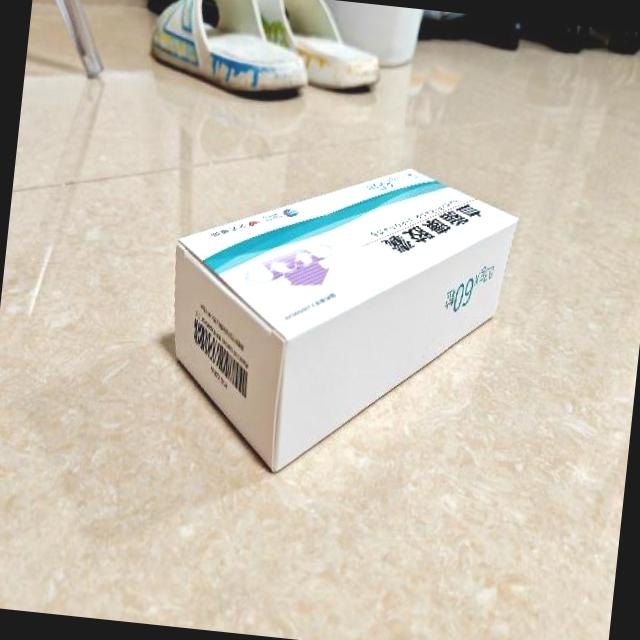box: (153, 143, 522, 498)
